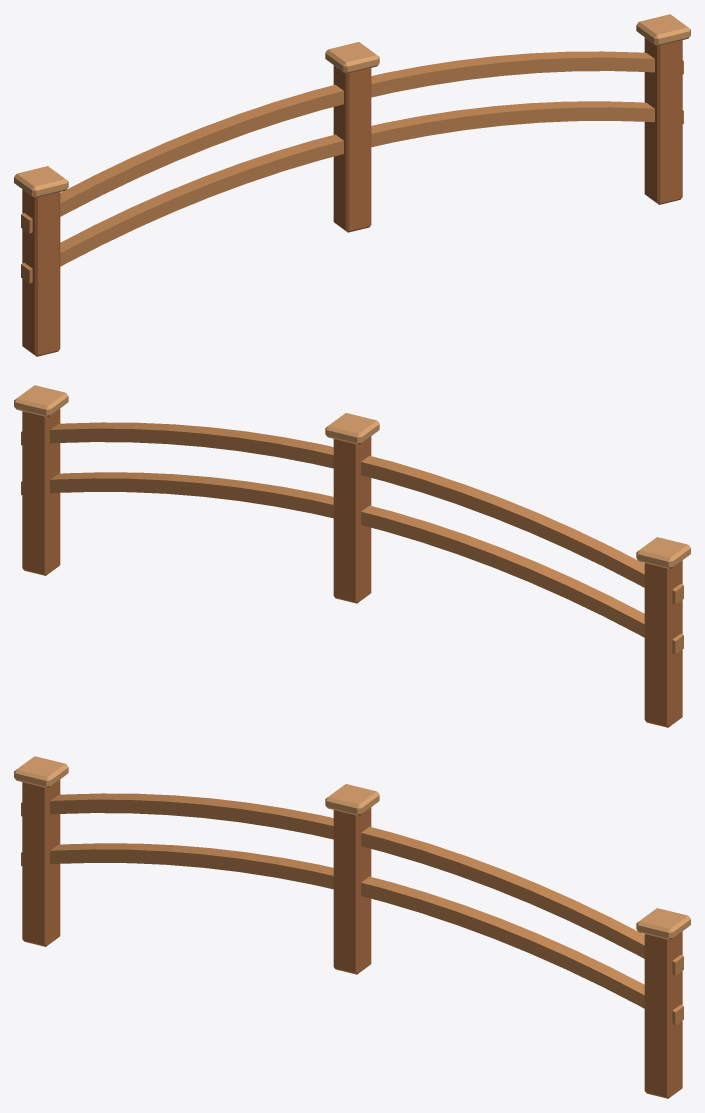
The model's file is ponte-guarda-corpo.glb.
The picture shows the model from 3 angles, top to bottom: view 1: azimuth 30°, elevation 25°; view 2: azimuth 150°, elevation 25°; view 3: azimuth 330°, elevation 25°; orthographic projection.
Visible parts, largest first — view 1: Guarda; view 2: Guarda; view 3: Guarda.
Boxes of the visible parts, x1,y1,x2,y2 form: Guarda: (14,14,690,356); Guarda: (14,385,690,727); Guarda: (14,756,690,1098).
Size of the model in its own units: 3.6 by 1.16 by 0.2.
